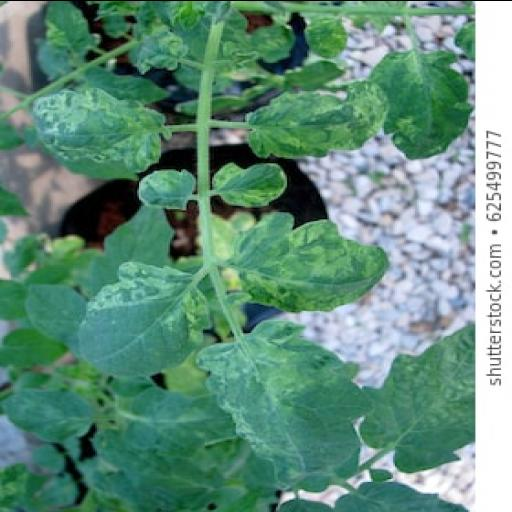Mosaic Virus: (201, 320, 373, 494), (68, 260, 218, 380), (227, 210, 389, 316), (22, 87, 184, 186), (364, 48, 468, 160), (247, 76, 386, 158), (212, 161, 298, 209), (137, 170, 201, 214)
